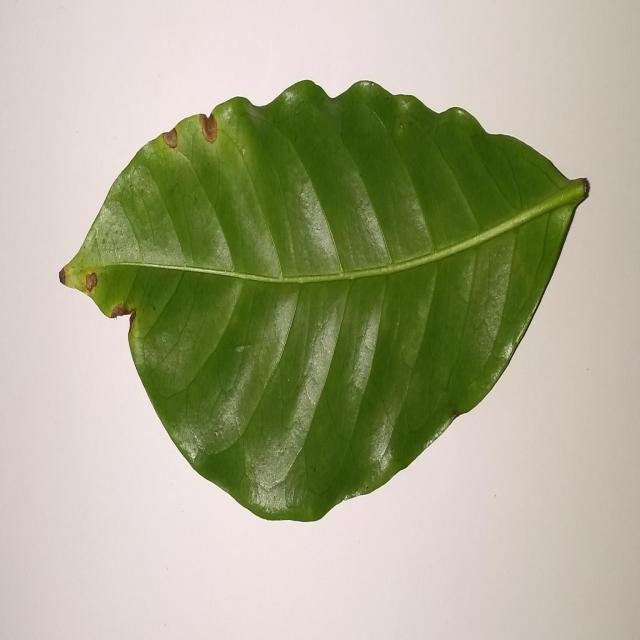Enfermedad-Mancha-de-hierro: (57, 79, 590, 526)
